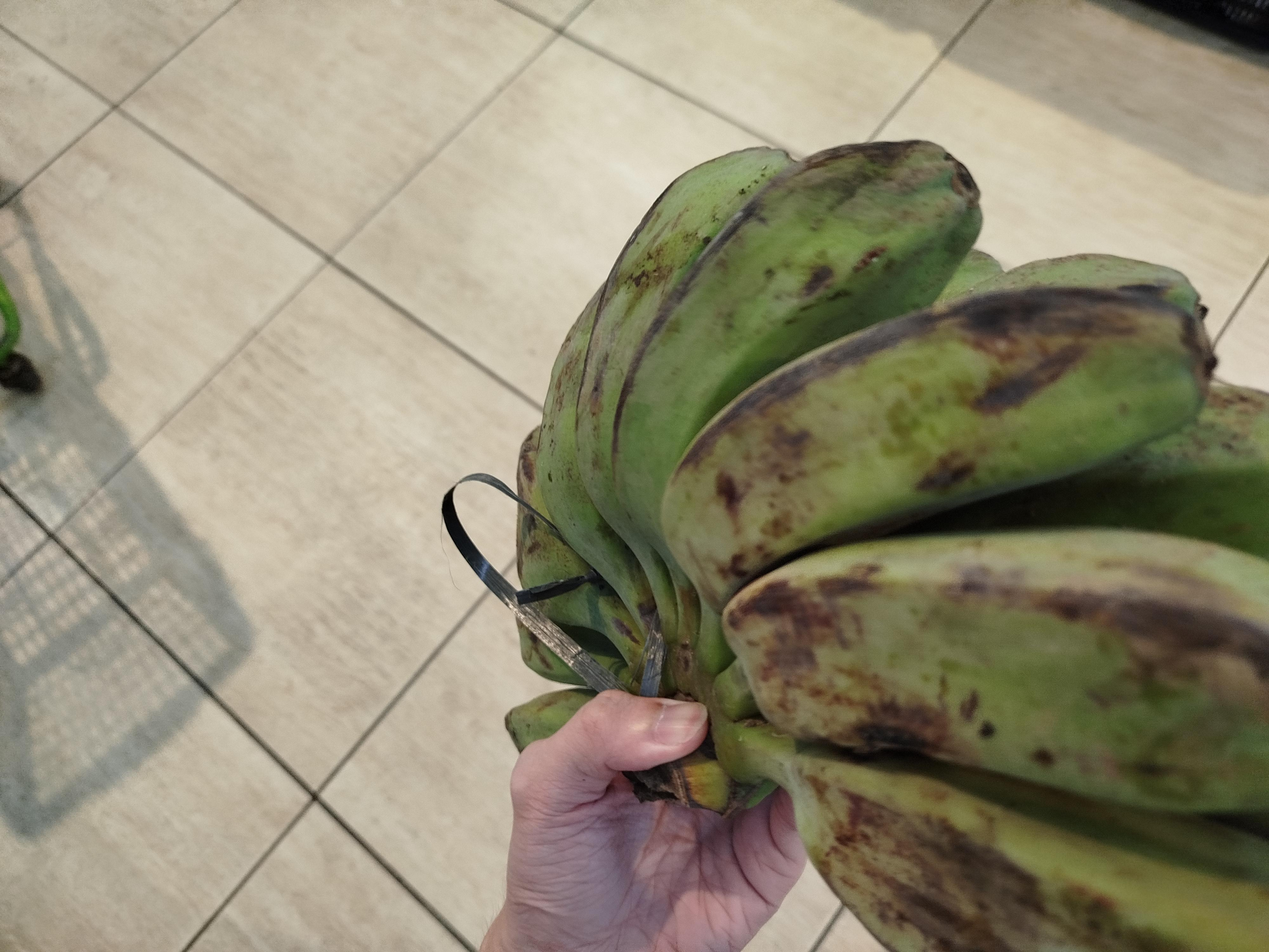underripe: (517, 141, 1269, 949)
